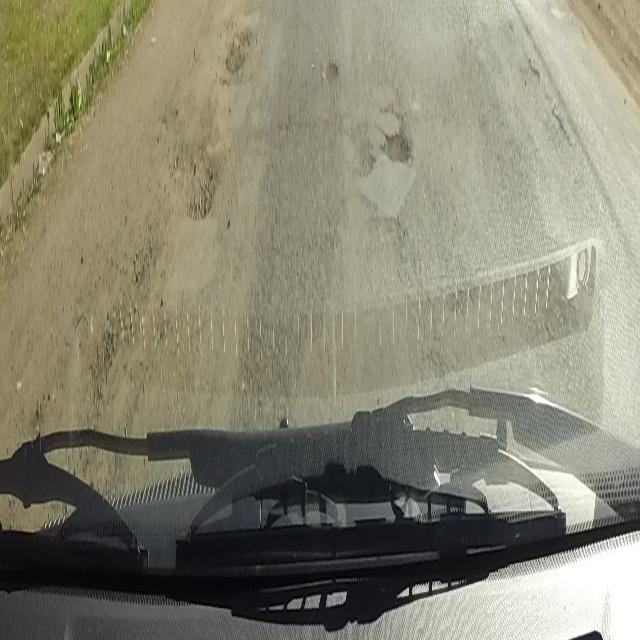pothole: (185, 146, 215, 223), (379, 120, 411, 168), (226, 32, 252, 80), (323, 53, 339, 88)
